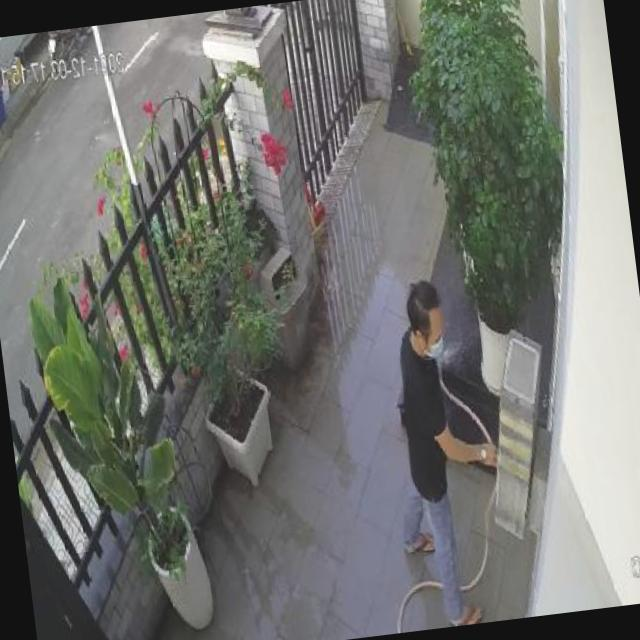Person: (370, 272, 518, 630)
